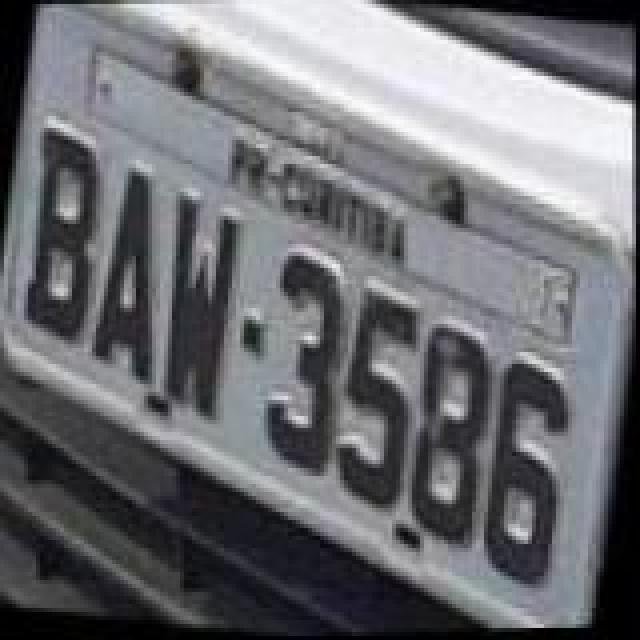3: (246, 248, 362, 480)
5: (326, 288, 438, 516)
6: (466, 358, 582, 590)
8: (396, 320, 508, 544)
A: (84, 162, 188, 386)
B: (10, 122, 118, 342)
W: (144, 188, 248, 420)
